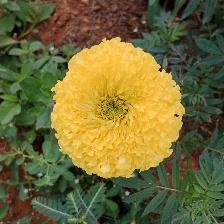marigold: (52, 36, 187, 182)
